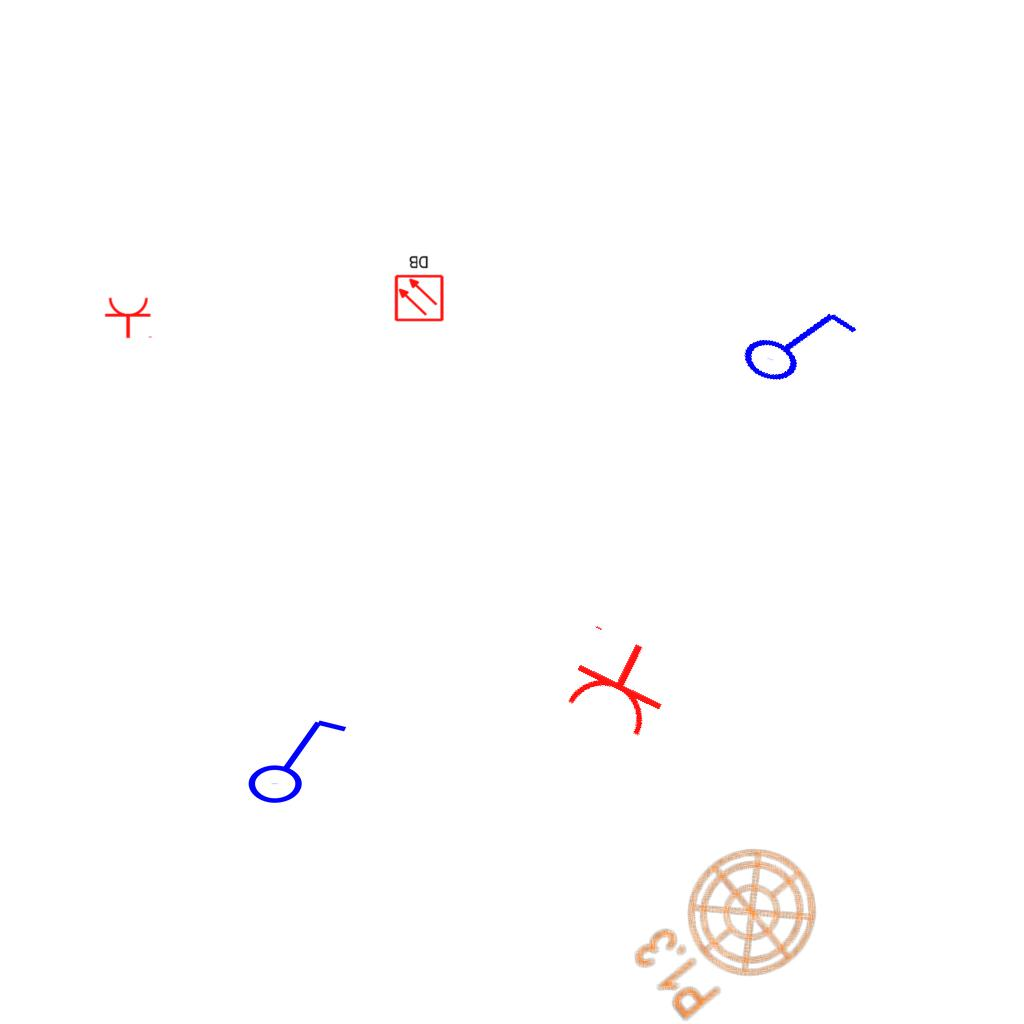Aufbaurundleuchte_LED_Treppenhaus: (597, 811, 844, 1024)
Ausschalter: (727, 277, 865, 405), (237, 710, 349, 806)
DB_Melder_in_Doppelboden_mit_Revisionsoeffnung_mind_40_x_40_cm: (390, 251, 447, 325)
Schukosteckdose_einfach: (555, 620, 684, 744), (104, 296, 154, 339)
